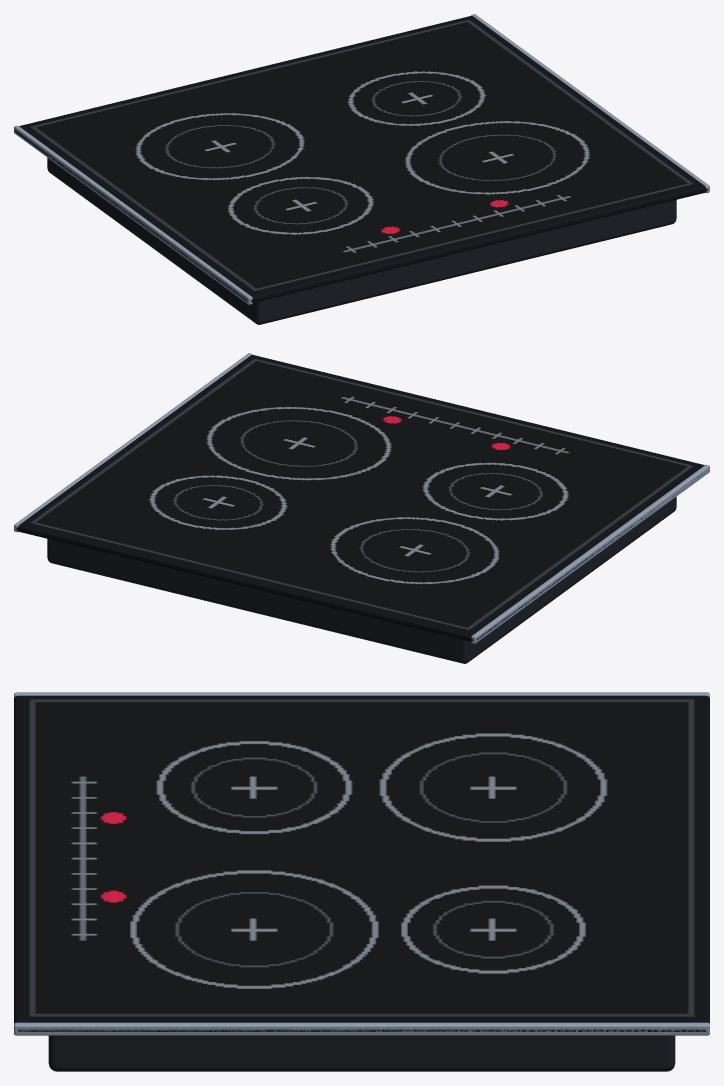
The model's file is obj_cooktop_ind_600.glb.
3 views of the same model, one above another, from view 1: azimuth 30°, elevation 25°; view 2: azimuth 150°, elevation 25°; view 3: azimuth 270°, elevation 25° (orthographic). The views are drawn at different scales.
Visible parts, largest first — view 1: obj_cooktop_ind_600; view 2: obj_cooktop_ind_600; view 3: obj_cooktop_ind_600.
Boxes of the visible parts, x1,y1,x2,y2 form: obj_cooktop_ind_600: [14, 14, 709, 324]; obj_cooktop_ind_600: [14, 353, 709, 663]; obj_cooktop_ind_600: [14, 692, 709, 1071].
Bounding box in the file's own units: 0.592 × 0.053 × 0.522.
4 materials, 1 textured.
